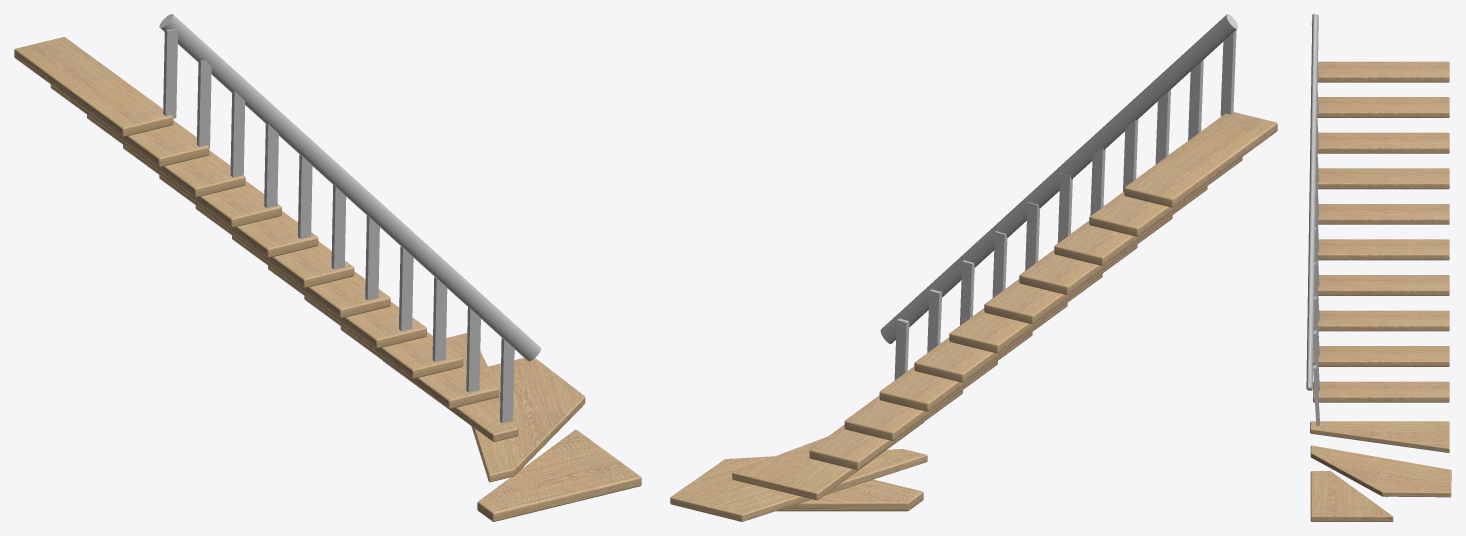
The model's file is Stairs.obj.
The picture shows the model from 3 angles, left to right: view 1: azimuth 30°, elevation 25°; view 2: azimuth 150°, elevation 25°; view 3: azimuth 270°, elevation 25°; orthographic projection. The views are drawn at different scales.
Visible parts, largest first — view 1: Stepenice_Cube, Stubovi_Cube.004, Gelender_Cylinder; view 2: Stepenice_Cube, Stubovi_Cube.004, Gelender_Cylinder; view 3: Stepenice_Cube, Gelender_Cylinder, Stubovi_Cube.004.
Part boxes in pixels (x1,y1,x2,y2): Stepenice_Cube: (14, 37, 641, 521); Stubovi_Cube.004: (163, 28, 514, 423); Gelender_Cylinder: (159, 14, 541, 361); Stepenice_Cube: (670, 112, 1277, 521); Stubovi_Cube.004: (894, 30, 1236, 380); Gelender_Cylinder: (880, 14, 1237, 343); Stepenice_Cube: (1310, 61, 1451, 521); Gelender_Cylinder: (1306, 14, 1318, 390); Stubovi_Cube.004: (1311, 20, 1319, 425).
Size of the model in its own units: 5.58 by 5.98 by 2.15.
